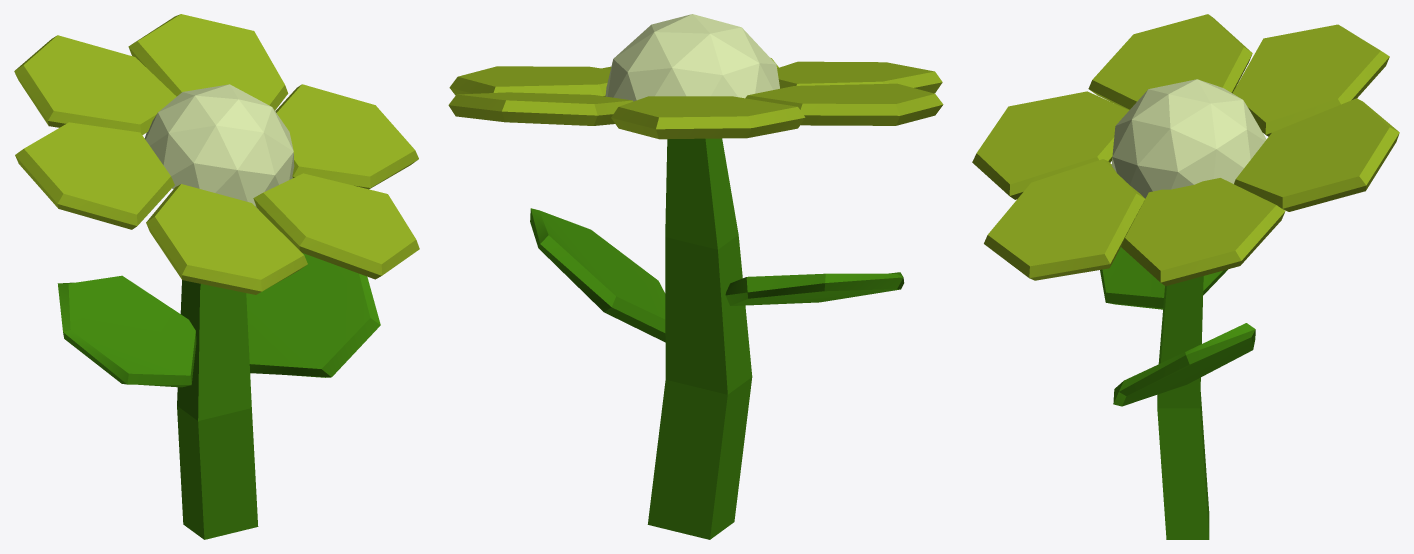
File: Flower_b_03.fbx
3 renders of one model, left to right at view 1: azimuth 30°, elevation 25°; view 2: azimuth 150°, elevation 25°; view 3: azimuth 270°, elevation 25°, orthographic. The views are drawn at different scales.
Parts seen in each view (by area): view 1: Flower_b_03_LOD0; view 2: Flower_b_03_LOD0; view 3: Flower_b_03_LOD0.
Boxes of the visible parts, bbox=[...] form: Flower_b_03_LOD0: bbox=[14, 14, 419, 539]; Flower_b_03_LOD0: bbox=[448, 14, 943, 539]; Flower_b_03_LOD0: bbox=[972, 14, 1399, 539].
Size of what is drawn, in the model's own units: 2.56 by 2.83 by 2.48.
